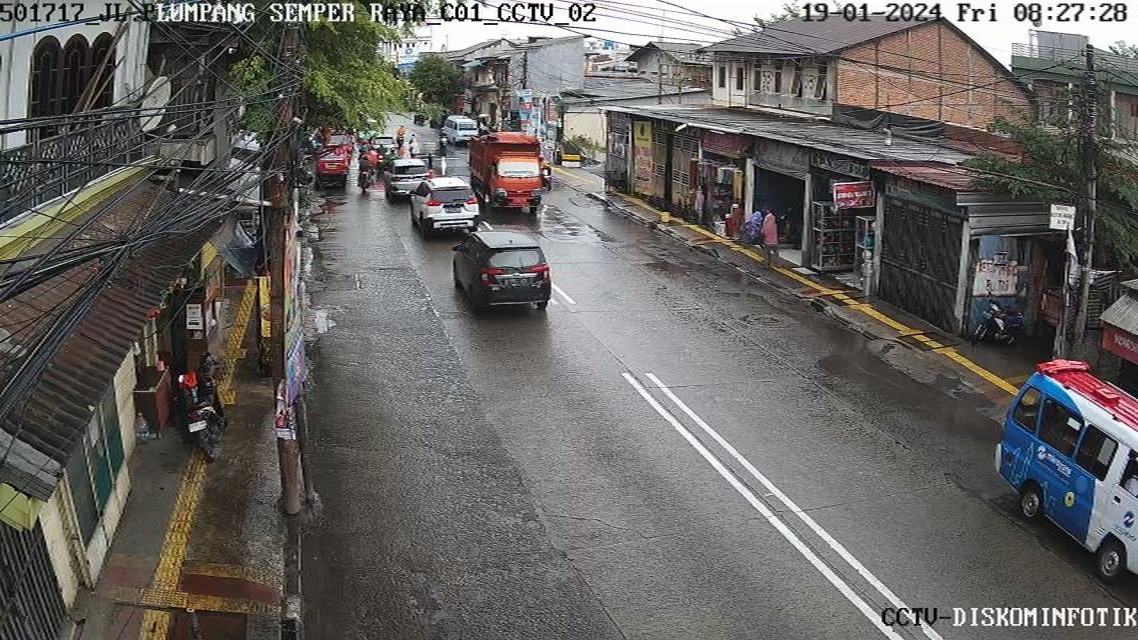Gerobak: (180, 278, 226, 377)
